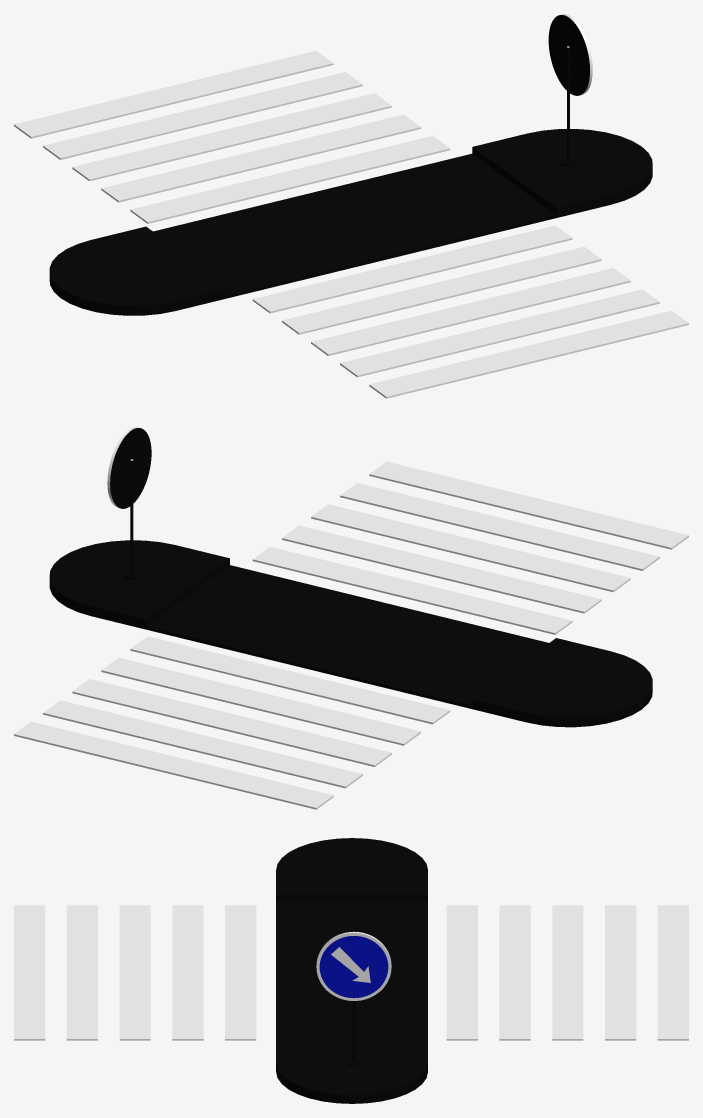
File: prechod_z_u.FBX
The picture shows the model from 3 angles, top to bottom: view 1: azimuth 30°, elevation 25°; view 2: azimuth 150°, elevation 25°; view 3: azimuth 270°, elevation 25°; orthographic projection. The views are drawn at different scales.
Parts seen in each view (by area): view 1: prechod; view 2: prechod; view 3: prechod.
Part boxes in pixels (left/top/right/bottom): prechod: left=14, top=14, right=688, bottom=398; prechod: left=14, top=427, right=688, bottom=809; prechod: left=14, top=838, right=688, bottom=1103.
Size of what is drawn, in the model's own units: 887 by 985 by 226.
